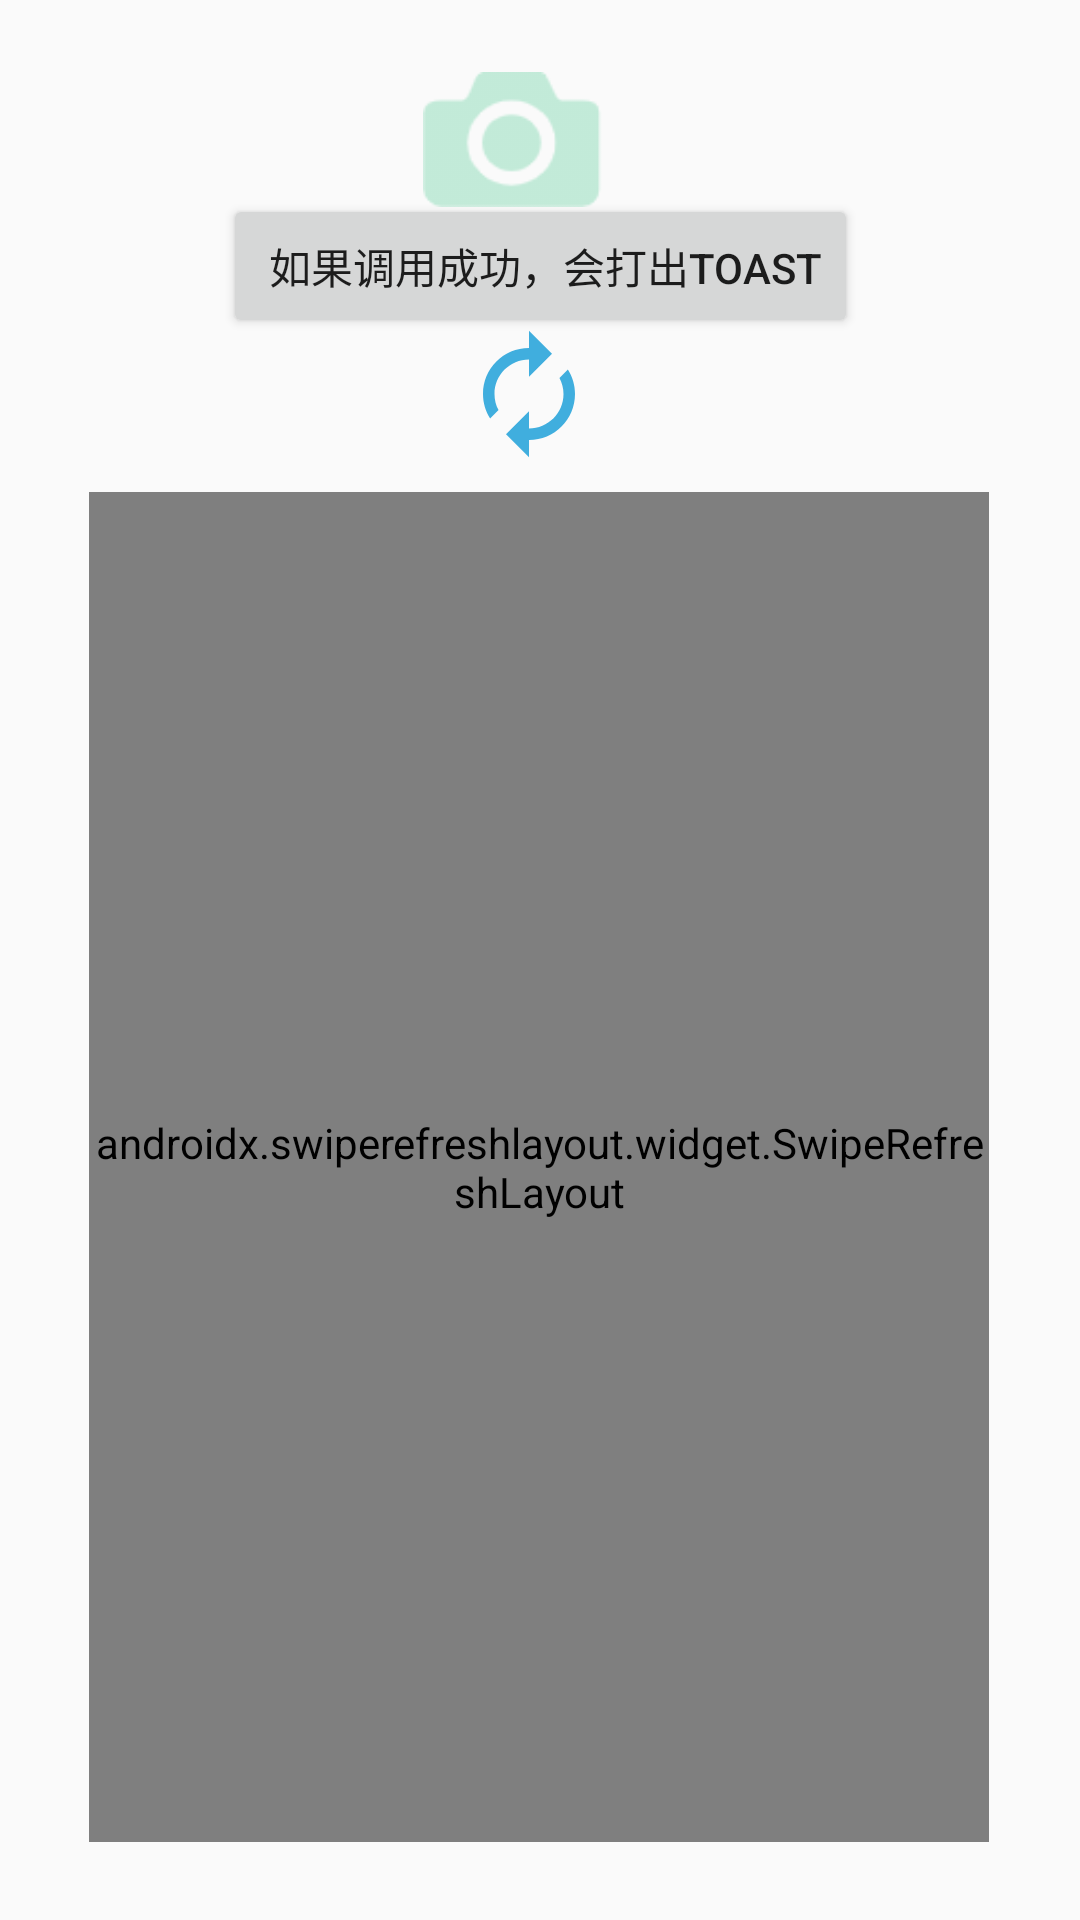

Where icons sit on this 1080px×1920px app screen, as (x1, y1, x2, y2):
camera: (423, 72, 599, 207)
change: (483, 331, 575, 457)
